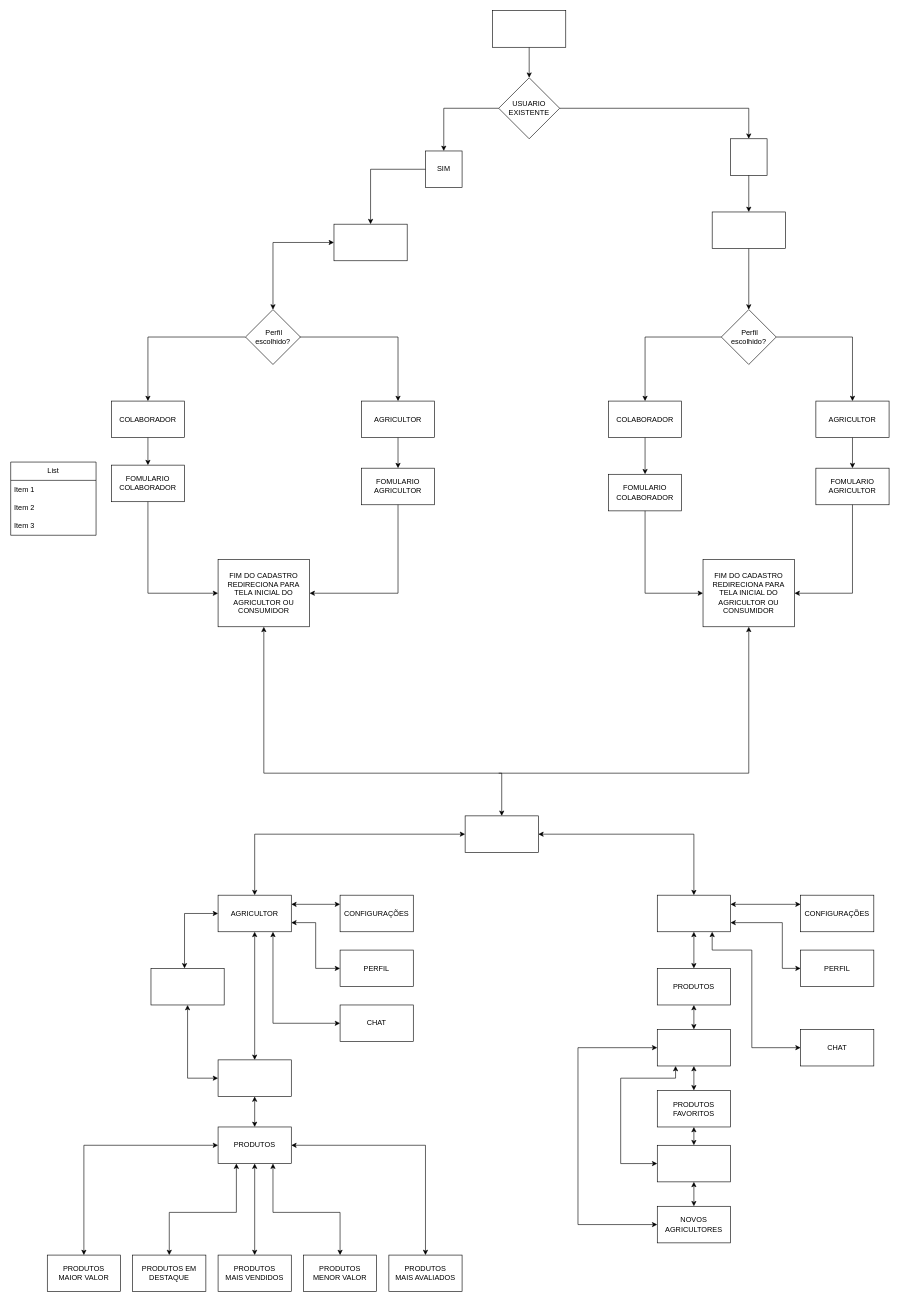
The diagram is 900 pixels wide and 1302 high, and some of its shapes have lost their labels. Each missing label, with the centre of its shape:
CADASTRAR PRODUTOS: point (187, 986)
CATEGORIAS: point (693, 1047)
CONSUMIDOR: point (693, 913)
HOME: point (501, 833)
NÃO: point (748, 156)
PRODUTOS CADASTRADOS: point (254, 1077)
PRODUTOS POPULARES: point (693, 1163)
TELA DE CADASTRO: point (748, 230)
TELA DE LOGIN: point (370, 242)
TELA INICIAL: point (529, 28)
